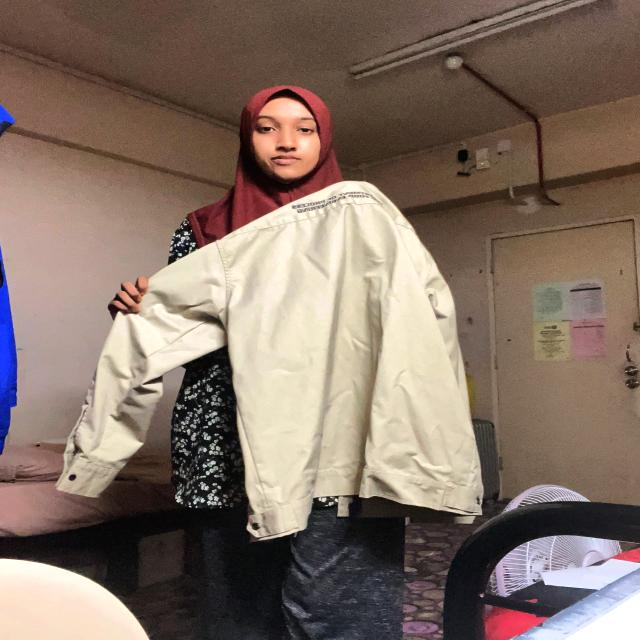person_without_labcoat: (57, 86, 483, 640)
